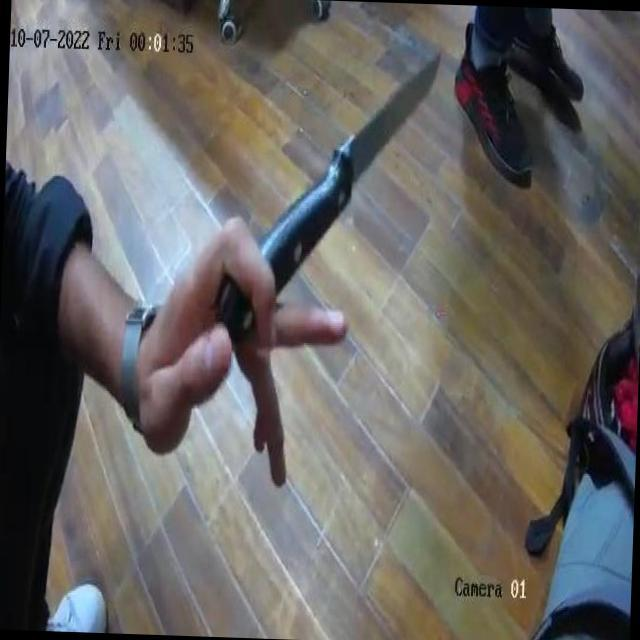Knife: (213, 38, 442, 340)
